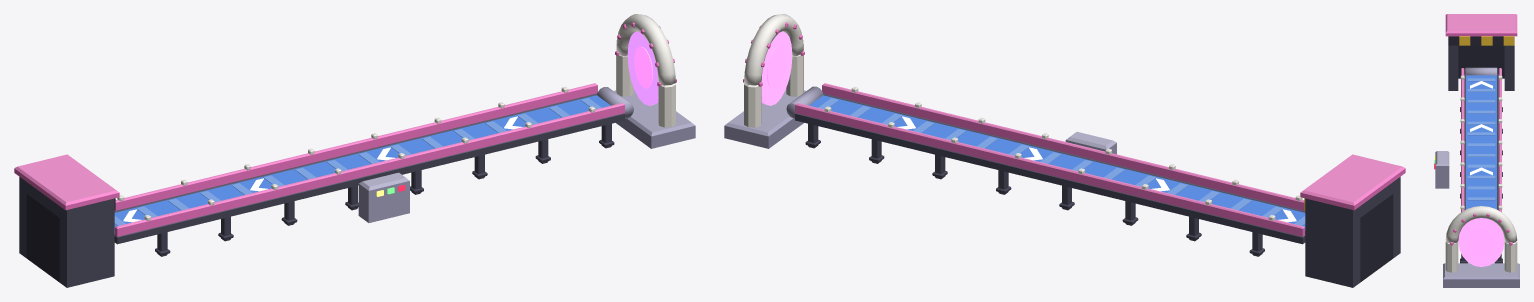
The model's file is Conveyor_6.glb.
The picture shows the model from 3 angles, left to right: view 1: azimuth 30°, elevation 25°; view 2: azimuth 150°, elevation 25°; view 3: azimuth 270°, elevation 25°; orthographic projection. The views are drawn at different scales.
Parts seen in each view (by area): view 1: Conveyor_6, Conveyor_6_Glow_portal, Conveyor_6_Glow_acc6, Conveyor_6_Glow_belt; view 2: Conveyor_6, Conveyor_6_Glow_portal, Conveyor_6_Glow_acc6, Conveyor_6_Glow_belt; view 3: Conveyor_6, Conveyor_6_Glow_portal, Conveyor_6_Glow_acc6, Conveyor_6_Glow_belt.
Part boxes in pixels (x1,y1,x2,y2): Conveyor_6: (14,14,695,287); Conveyor_6_Glow_portal: (627,31,658,105); Conveyor_6_Glow_acc6: (634,46,653,88); Conveyor_6_Glow_belt: (123,116,522,222); Conveyor_6: (724,14,1405,287); Conveyor_6_Glow_portal: (761,31,792,105); Conveyor_6_Glow_acc6: (766,46,785,88); Conveyor_6_Glow_belt: (897,116,1296,222); Conveyor_6: (1435,14,1519,287); Conveyor_6_Glow_portal: (1458,218,1504,266); Conveyor_6_Glow_acc6: (1468,227,1494,255); Conveyor_6_Glow_belt: (1470,81,1492,175).
Size of the model in its own units: 79.2 by 13 by 13.4.
Materials: 7 (1 with a texture image).
